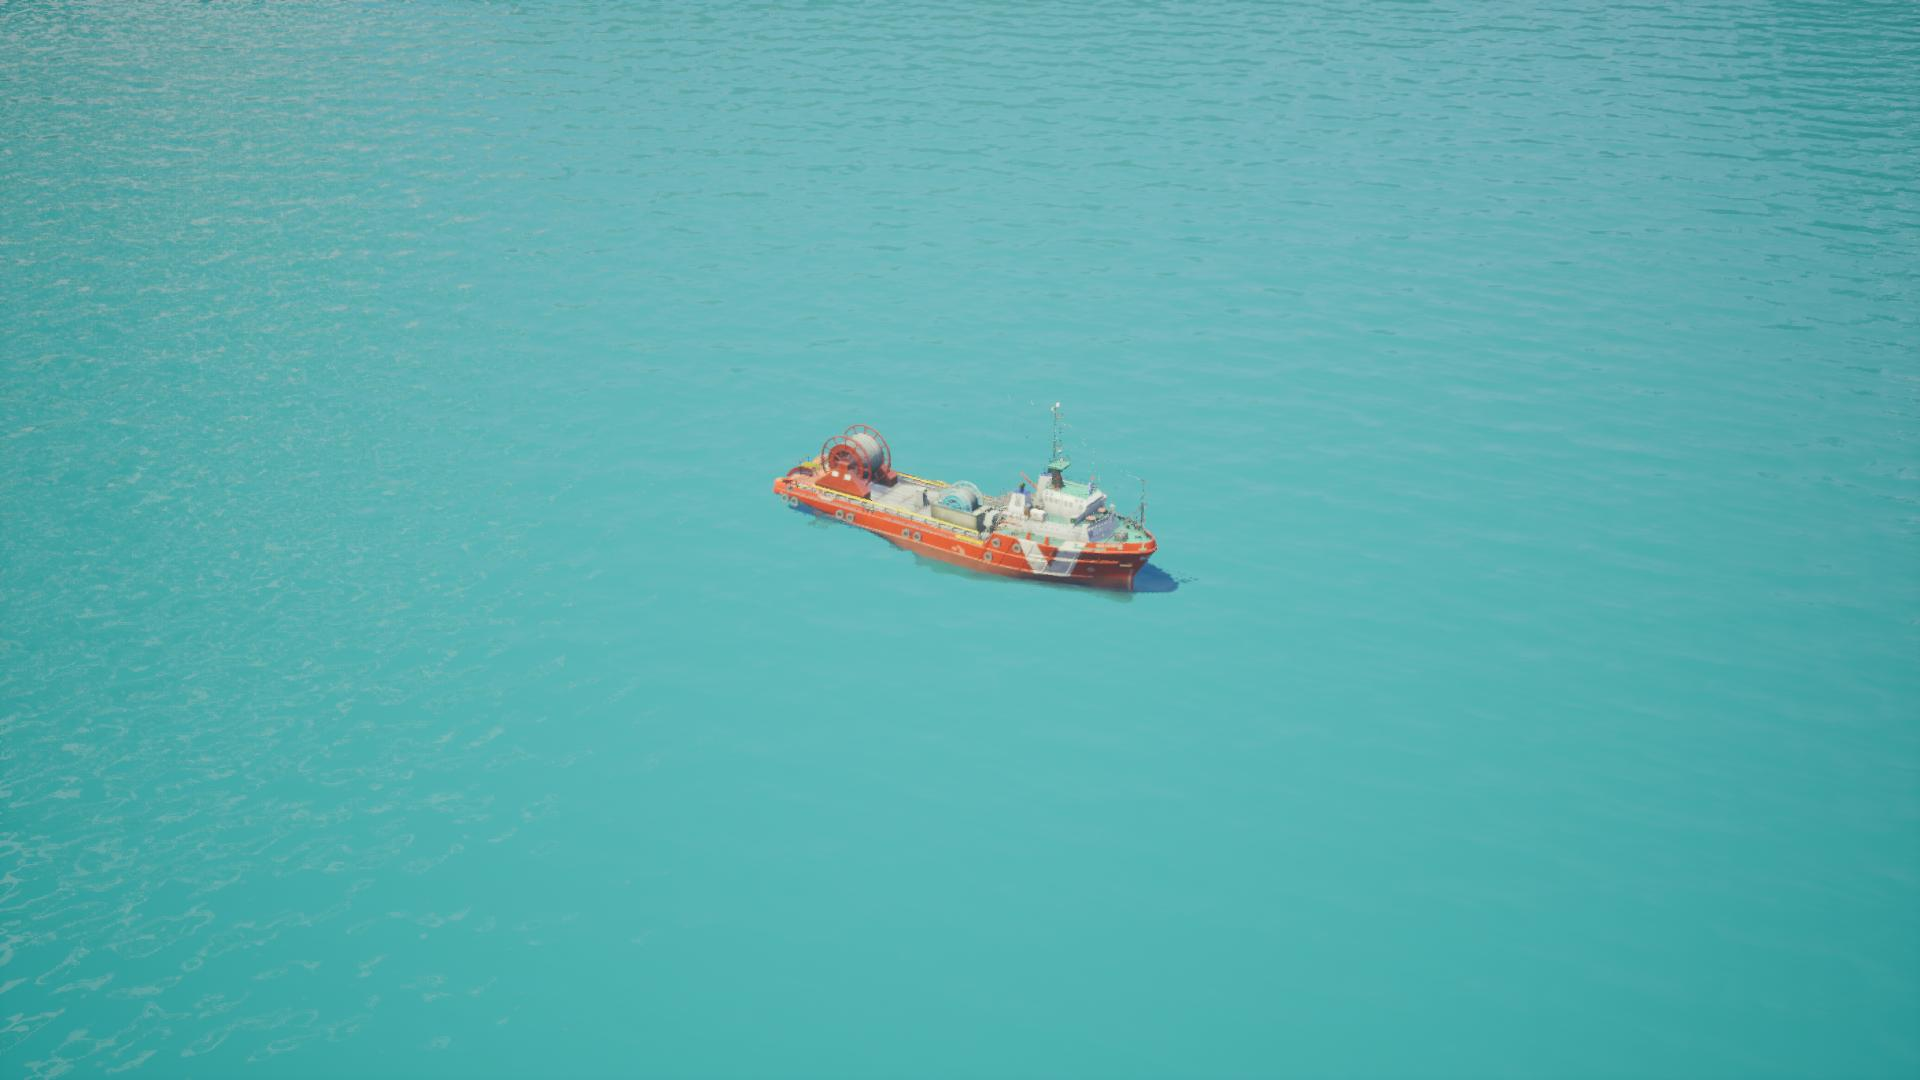Tug Boat: (767, 383, 1125, 653)
